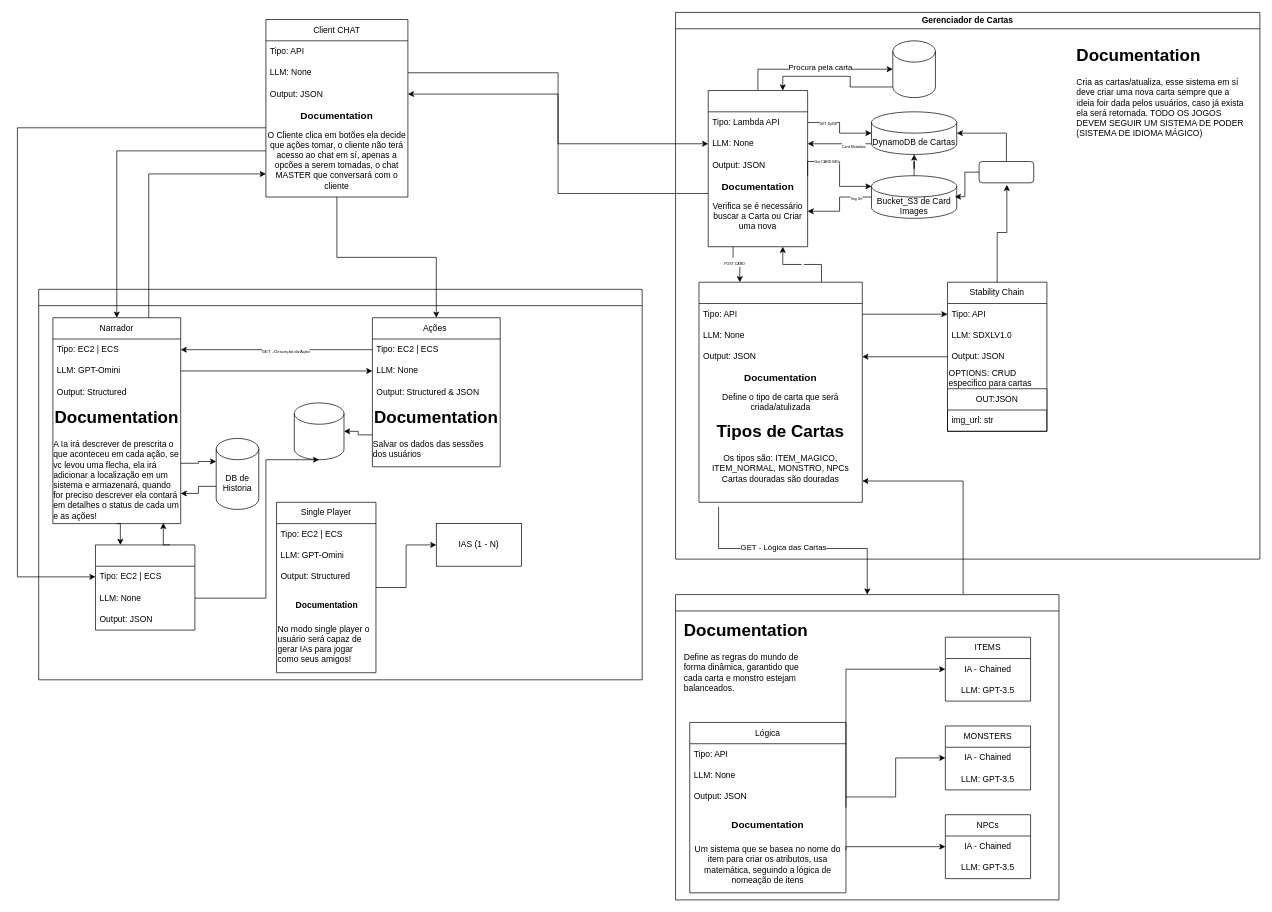
Some shapes in this 1272 by 912 pixel diagram are drawn without their labels. The shapes that lost their labels are listed below. From the top down, each one's box as (x1, y1, x2, y2) in pixels, then its label:
(892, 40, 935, 98): REDIS
(708, 90, 808, 247): Cards Manager
(978, 161, 1034, 183): Lambda
(698, 282, 862, 502): Cards Generator
(294, 402, 344, 460): DynamoDB para Partidas
(38, 289, 642, 680): Master Container
(95, 544, 195, 630): Inventario
(675, 594, 1059, 900): Sistema de Idioma Mágico
